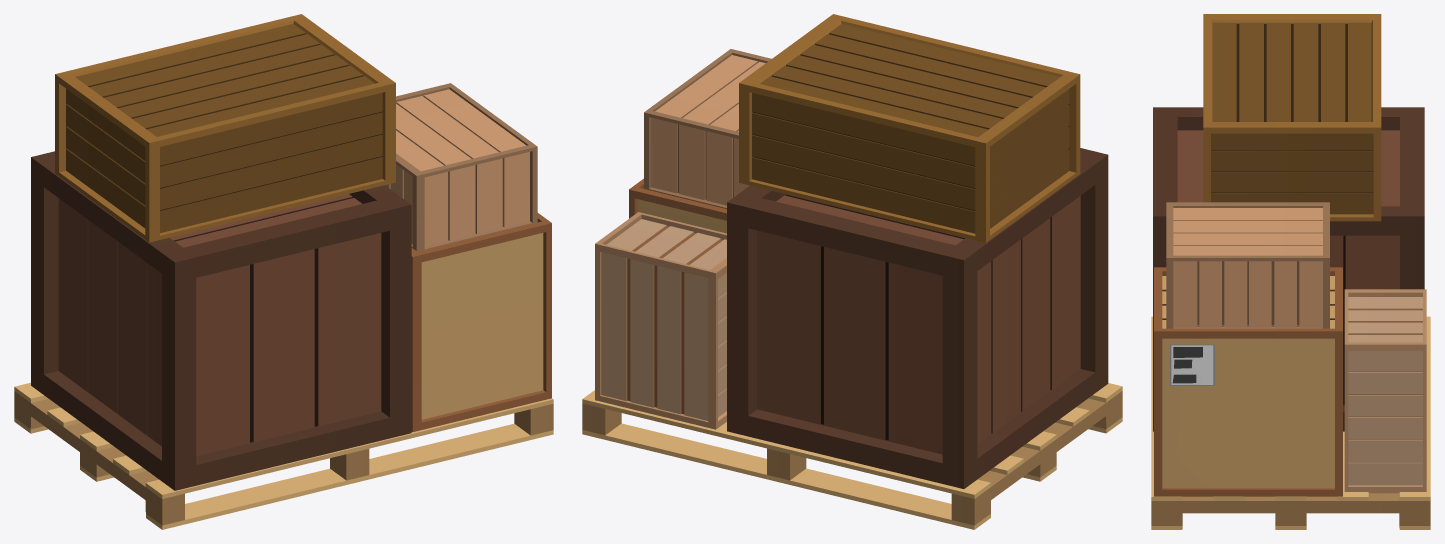
The model's file is Pallet Of Boxes #2.fbx.
3 renders of one model, left to right at view 1: azimuth 30°, elevation 25°; view 2: azimuth 150°, elevation 25°; view 3: azimuth 270°, elevation 25°, orthographic. The views are drawn at different scales.
Parts seen in each view (by area): view 1: Pallet Of Boxes #2; view 2: Pallet Of Boxes #2; view 3: Pallet Of Boxes #2.
Boxes of the visible parts, box(x1,y1,x2,y2) form: Pallet Of Boxes #2: box(14, 14, 553, 529); Pallet Of Boxes #2: box(582, 14, 1122, 529); Pallet Of Boxes #2: box(1151, 14, 1430, 529).
Bounding box in the file's own units: 566 × 418 × 638.
Materials: 1 (1 with a texture image).
